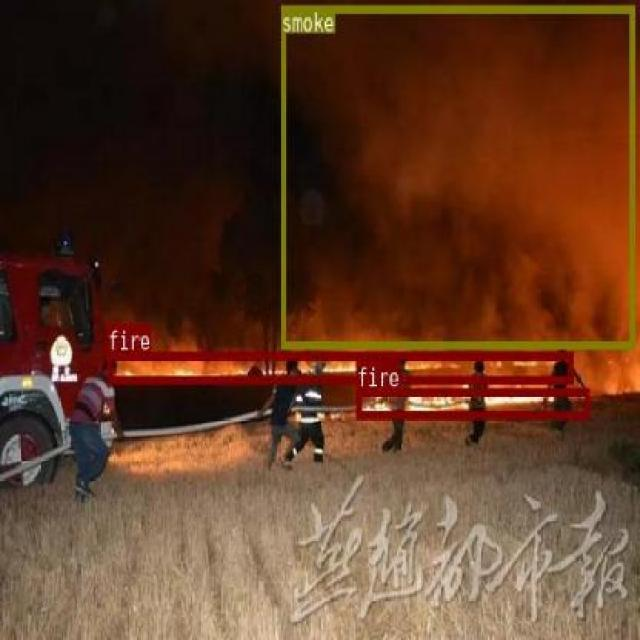fire: (106, 350, 572, 382), (356, 388, 589, 416)
smoke: (280, 4, 634, 347)
